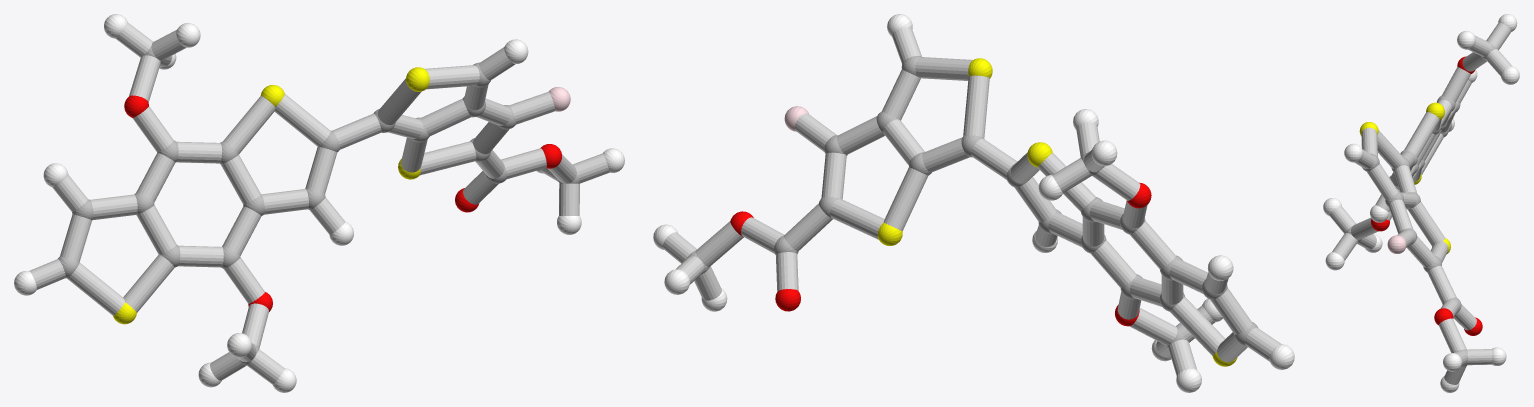
The model's file is Dimethoxy_Benzodithiophene_Phi_5_Theta_240_Methylcarbonyl_3_Fluoro_Thienothiophene.glb.
The picture shows the model from 3 angles, left to right: view 1: azimuth 30°, elevation 25°; view 2: azimuth 150°, elevation 25°; view 3: azimuth 270°, elevation 25°; orthographic projection. The views are drawn at different scales.
Parts seen in each view (by area): view 1: grp15205, grp8689, grp1, grp7241, grp13395; view 2: grp15205, grp8689, grp1, grp7241, grp13395; view 3: grp15205, grp8689, grp1, grp13395, grp7241, grp14843.
Boxes of the visible parts, x1,y1,x2,y2 form: grp15205: (29,22,609,384); grp8689: (14,14,624,392); grp1: (58,46,579,365); grp7241: (113,67,429,324); grp13395: (124,95,561,311); grp15205: (663,27,1281,375); grp8689: (653,14,1294,392); grp1: (687,56,1258,348); grp7241: (877,58,1237,366); grp13395: (730,182,1151,326); grp15205: (1329,22,1512,384); grp8689: (1323,14,1519,392); grp1: (1345,44,1496,366); grp13395: (1371,56,1482,335); grp7241: (1359,102,1450,254); grp14843: (1387,235,1406,253).
Bounding box in the file's own units: 17.01 × 8.17 × 6.2.
